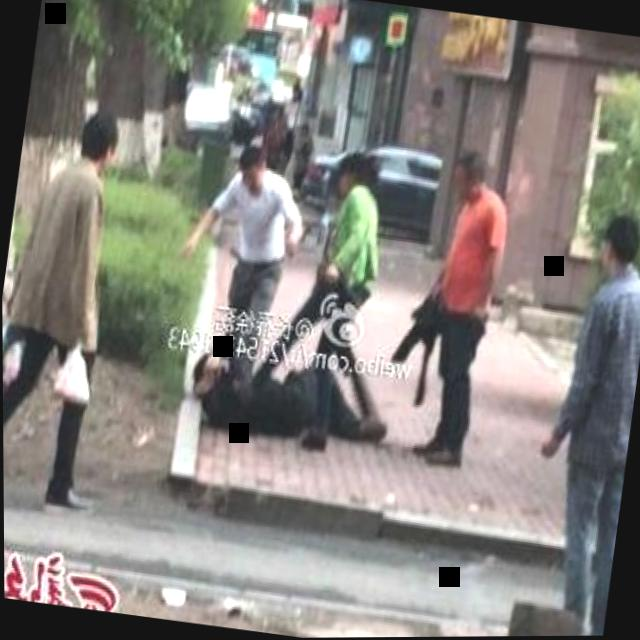Fall-Detected: (173, 321, 414, 463)
